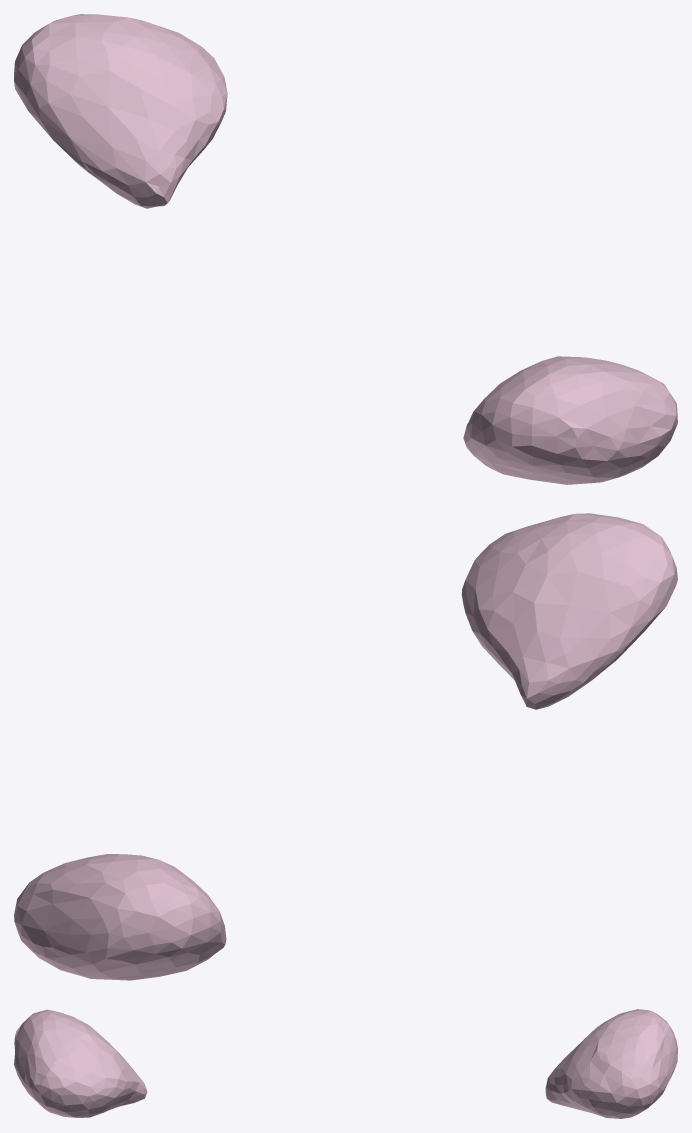
3 renders of one model, top to bottom at view 1: azimuth 30°, elevation 25°; view 2: azimuth 150°, elevation 25°; view 3: azimuth 270°, elevation 25°, orthographic. The views are drawn at different scales.
Visible parts, largest first — view 1: 217.obj; view 2: 217.obj; view 3: 217.obj.
Boxes of the visible parts, box(x1,y1,x2,y2) form: 217.obj: box(14, 14, 677, 484); 217.obj: box(14, 513, 677, 980); 217.obj: box(14, 1009, 677, 1118).
Bounding box in the file's own units: 783 × 558 × 3845.
